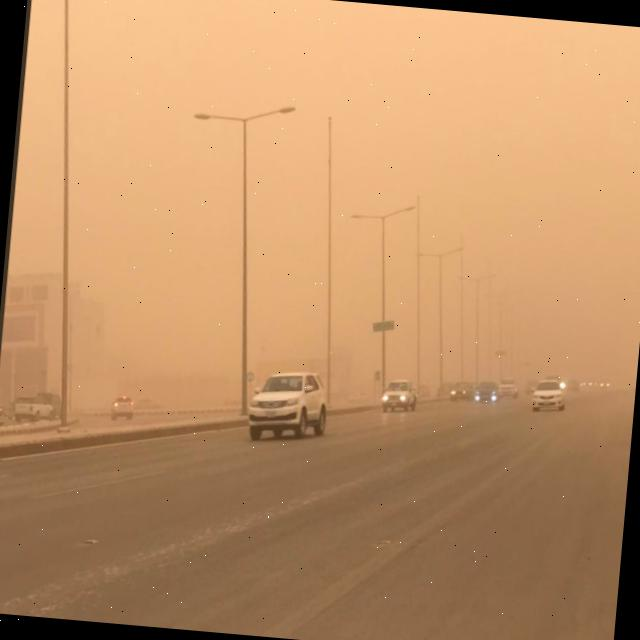car: (246, 365, 332, 444), (380, 378, 418, 413), (530, 376, 566, 412), (13, 392, 55, 422), (36, 388, 64, 417), (108, 392, 134, 422), (450, 377, 476, 400), (474, 381, 500, 404), (498, 377, 520, 399), (136, 395, 161, 414)
